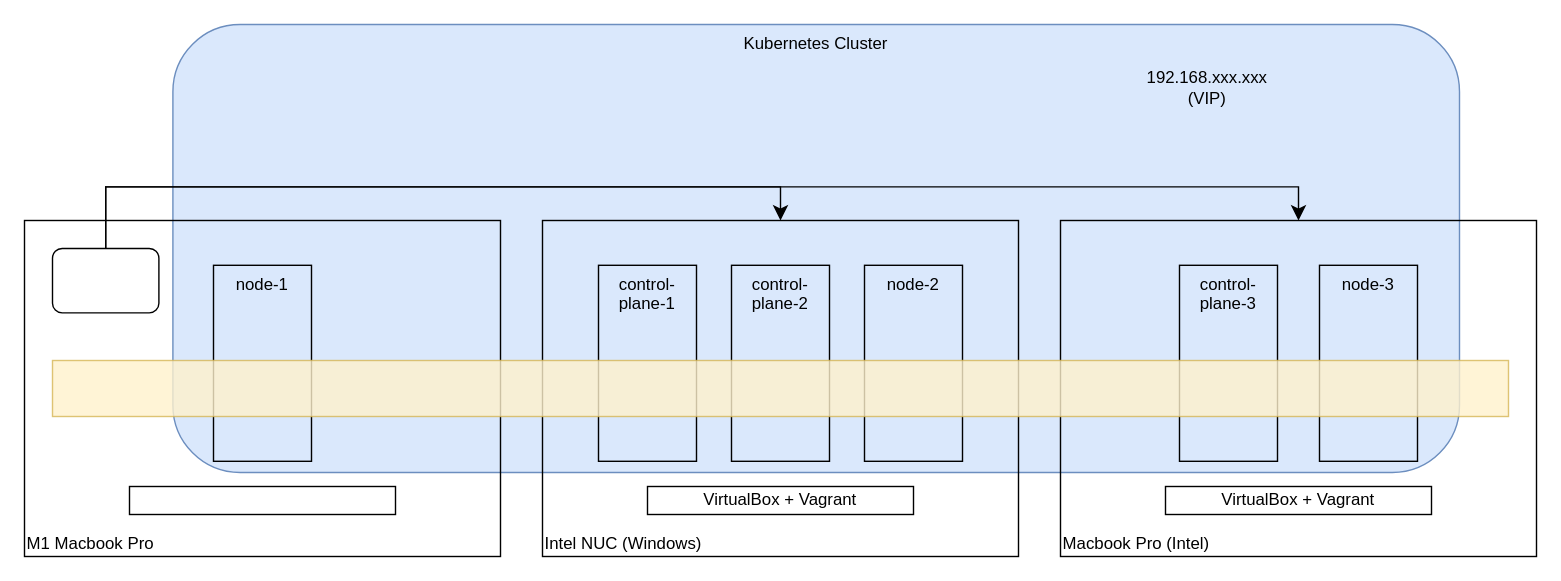
This 1561x581 diagram has some shape labels left out. The shapes that lost their labels are listed below. From the top down, each one's centre as x and y in pixels, then its label:
At pixel 105 280: "Ansible".
At pixel 779 387: "Wi-Fi (192.168.xxx.xxx/xx)".
At pixel 262 499: "Multipass".
